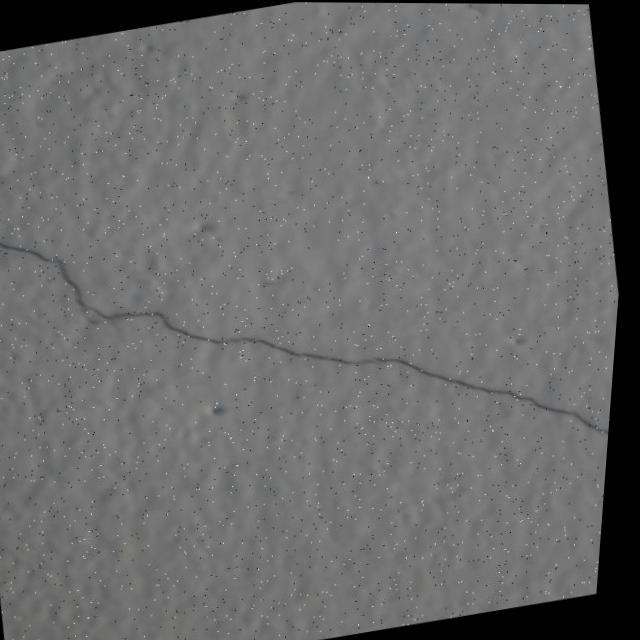Crack: (0, 48, 637, 591)
